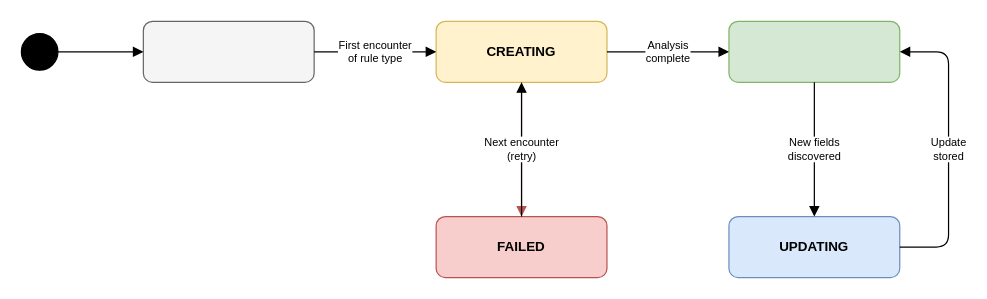
Image size: 987x299. Some labels were removed from this diagram. The shapes that lost their labels are listed below. From the top down, each one's centre as x and y in pixels, then its label:
At point 228,51: "NOT_EXISTS".
At point 814,51: "READY".
